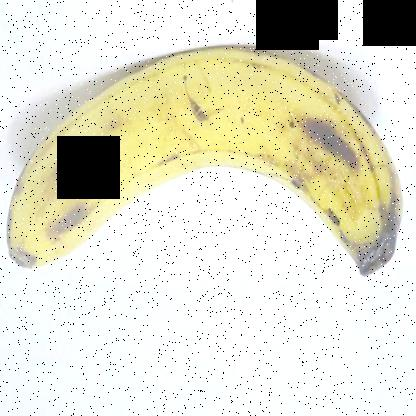ripe: (1, 28, 408, 314)
